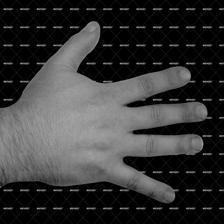Ladder: (68, 20, 146, 199)
